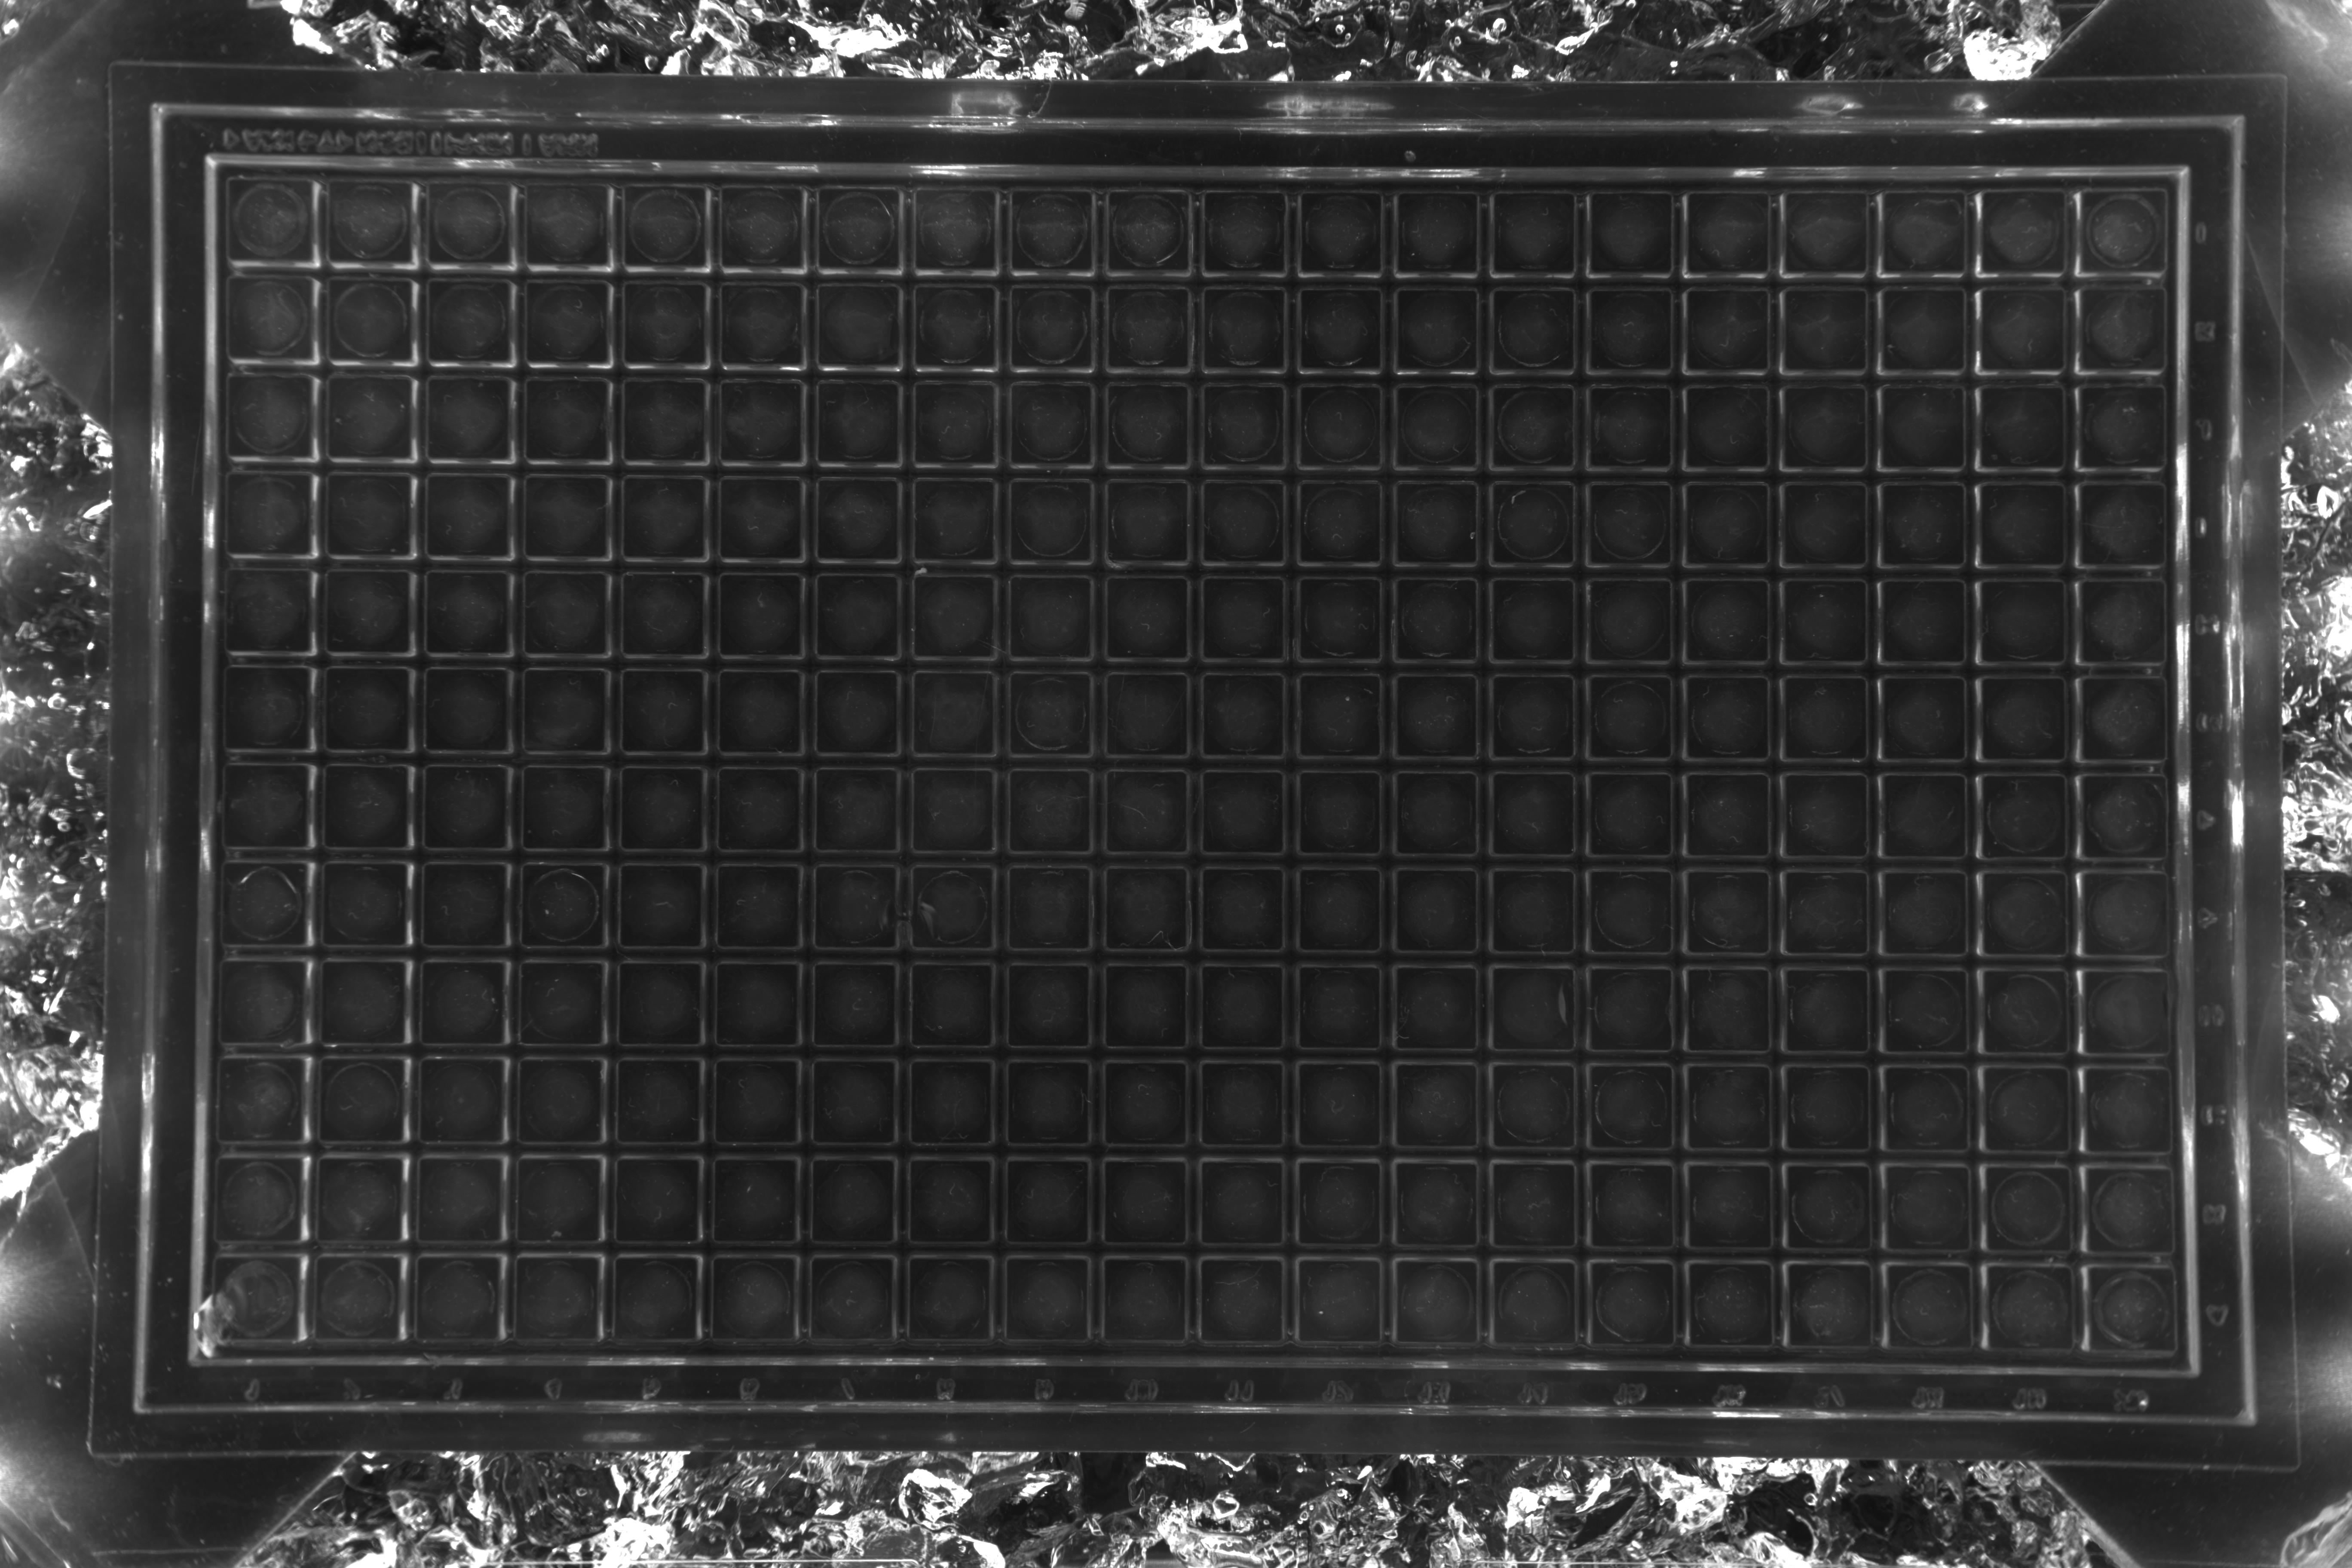WM_well: (303, 555, 390, 642), (588, 1241, 675, 1328), (595, 751, 682, 838), (595, 556, 682, 644), (789, 752, 877, 840), (884, 1045, 971, 1132), (885, 947, 973, 1034), (887, 462, 975, 549), (1272, 269, 1360, 357), (1272, 656, 1360, 744), (1274, 1339, 1361, 1426), (1368, 367, 1456, 455), (1368, 464, 1456, 551), (1466, 560, 1554, 647), (1470, 1342, 1557, 1430), (1561, 269, 1648, 357), (1563, 464, 1650, 551), (1563, 560, 1650, 647), (1661, 464, 1748, 551), (1662, 852, 1750, 940), (1862, 952, 1949, 1039), (2060, 954, 2147, 1041)
